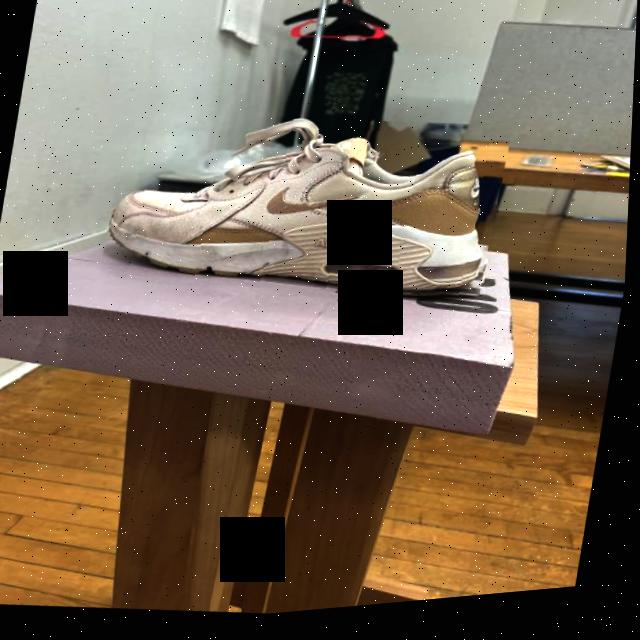shoe: (98, 88, 517, 339)
